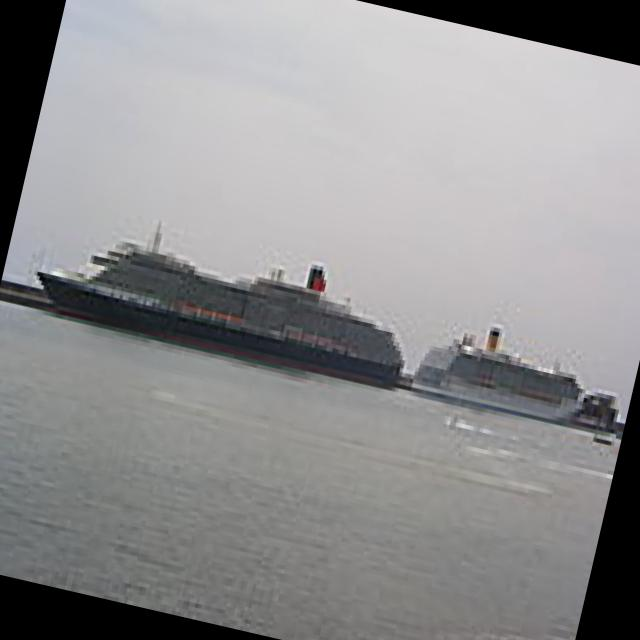boat: (36, 236, 424, 404), (408, 336, 596, 438)
